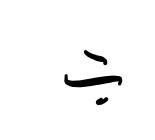div: (64, 49, 123, 105)
